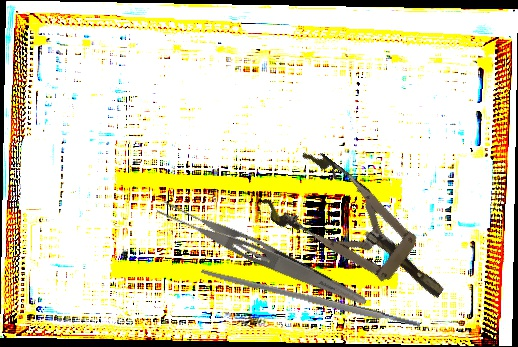Dressing Forceps: (153, 195, 373, 311)
Scalpel Handle: (200, 266, 421, 332)
Speculum: (256, 141, 466, 329)
